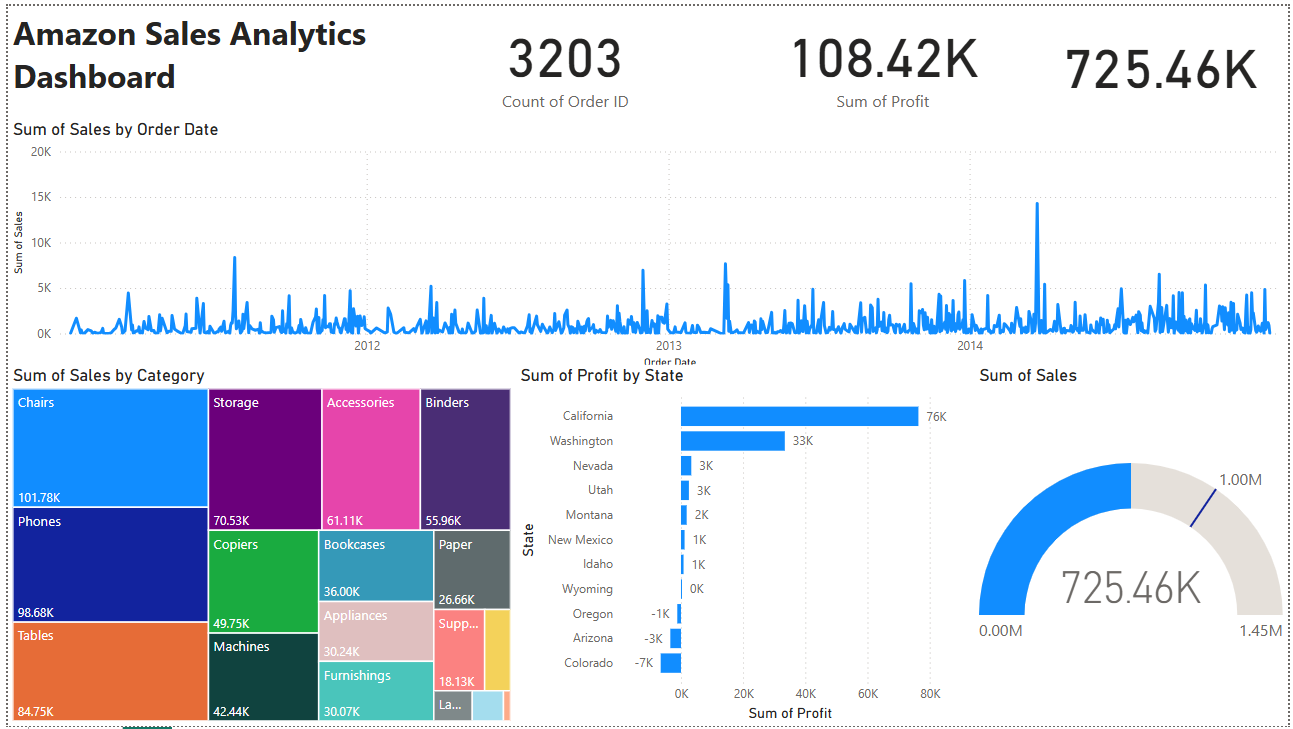

What the dashboard file says about the page in this screenshot:
{"tool":"powerbi","page":{"name":"Page 1","canvas":[1280,720],"ordinal":0},"visuals":[{"type":"card","fields":{"Values":["Sum(Walmart.Sales)"]},"box":[1025,0,255,112.5],"z":1},{"type":"card","fields":{"Values":["Sum(Walmart.Profit)"]},"box":[725,0,300,112.5],"z":2},{"type":"card","fields":{"Values":["CountNonNull(Walmart.Order ID)"]},"box":[390,0,335,112.5],"z":3},{"type":"lineChart","fields":{"Y":["Sum(Walmart.Sales)"],"Category":["Walmart.Order Date"]},"box":[0,112.5,1280,255],"z":4},{"type":"treemap","fields":{"Group":["Walmart.Category"],"Values":["Sum(Walmart.Sales)"]},"box":[0,359.4,507.7,361.3],"z":5},{"type":"qnaVisual","box":[0,0,167.5,55],"z":6},{"type":"barChart","fields":{"Category":["Walmart.State"],"Y":["Sum(Walmart.Profit)"]},"box":[507.7,359.4,458.2,361.3],"z":7},{"type":"gauge","fields":{"Y":["Sum(Walmart.Sales)"]},"box":[965.9,359.4,313.7,361.3],"z":8},{"type":"textbox","box":[0,0,407.8,112.5],"z":9}]}

Visuals, with their boxes in screenshot pixels (x1, y1, x2, y2), scaled from the page's 1280x720 canvas onto the 1293x729 screenshot:
card - Sum(Walmart.Sales): region(1035, 0, 1292, 114)
card - Sum(Walmart.Profit): region(732, 0, 1035, 114)
card - CountNonNull(Walmart.Order ID): region(394, 0, 732, 114)
lineChart - Sum(Walmart.Sales) x Walmart.Order Date: region(0, 114, 1292, 372)
treemap - Walmart.Category x Sum(Walmart.Sales): region(0, 364, 513, 728)
qnaVisual: region(0, 0, 169, 56)
barChart - Walmart.State x Sum(Walmart.Profit): region(513, 364, 976, 728)
gauge - Sum(Walmart.Sales): region(976, 364, 1292, 728)
textbox: region(0, 0, 412, 114)
